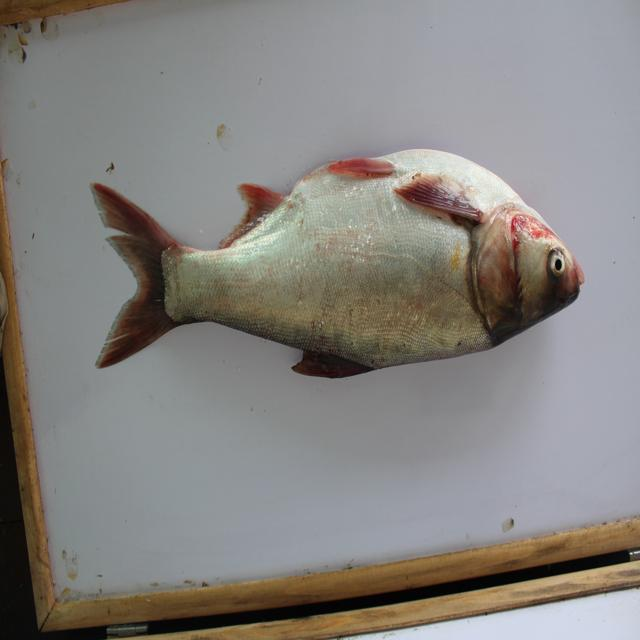SilverCarp: (72, 128, 601, 395)
